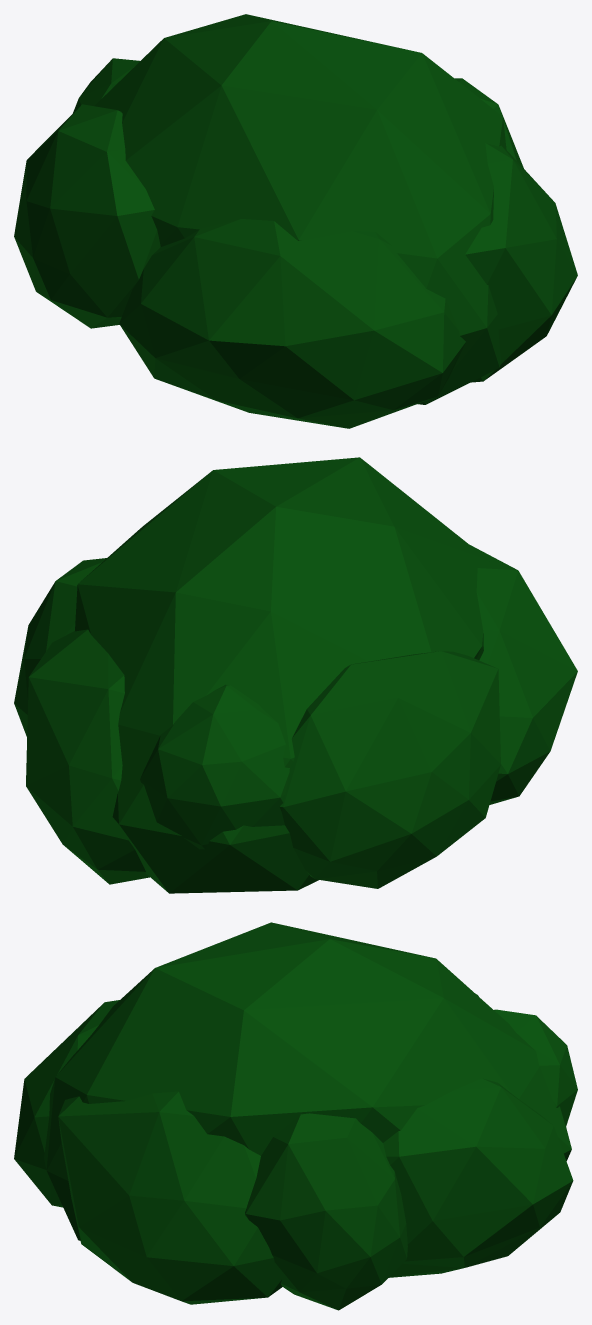
The model's file is bush7.fbx.
3 renders of one model, top to bottom at view 1: azimuth 30°, elevation 25°; view 2: azimuth 150°, elevation 25°; view 3: azimuth 270°, elevation 25°, orthographic. The views are drawn at different scales.
Visible parts, largest first — view 1: Cube.006; view 2: Cube.006; view 3: Cube.006.
Boxes of the visible parts, x1,y1,x2,y2 form: Cube.006: (14, 14, 577, 428); Cube.006: (14, 457, 577, 893); Cube.006: (14, 922, 577, 1310).
Bounding box in the file's own units: 306 × 211 × 354.
